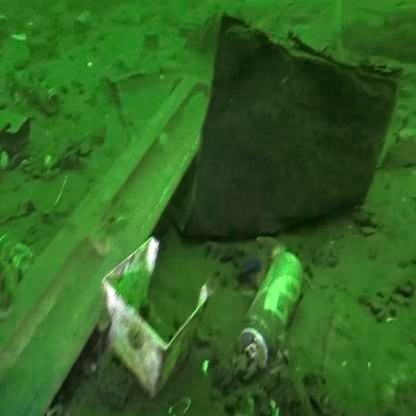can: (244, 224, 301, 367)
misc: (102, 232, 192, 364)
